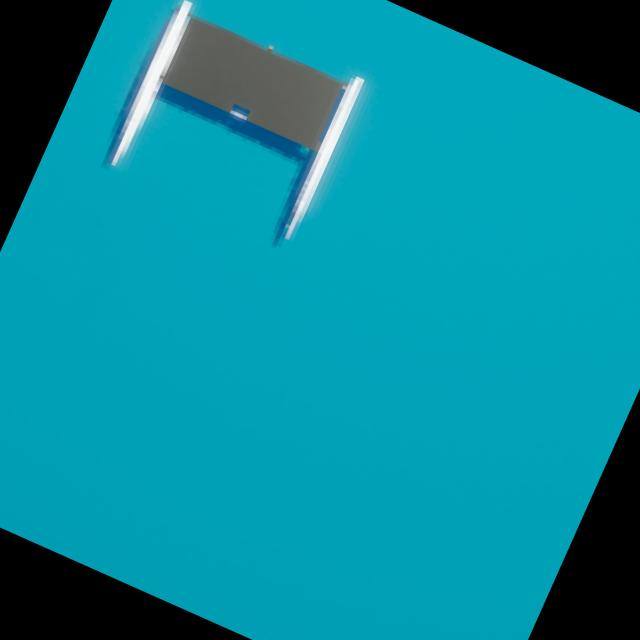boat: (66, 0, 385, 262)
drone: (164, 16, 340, 145)
